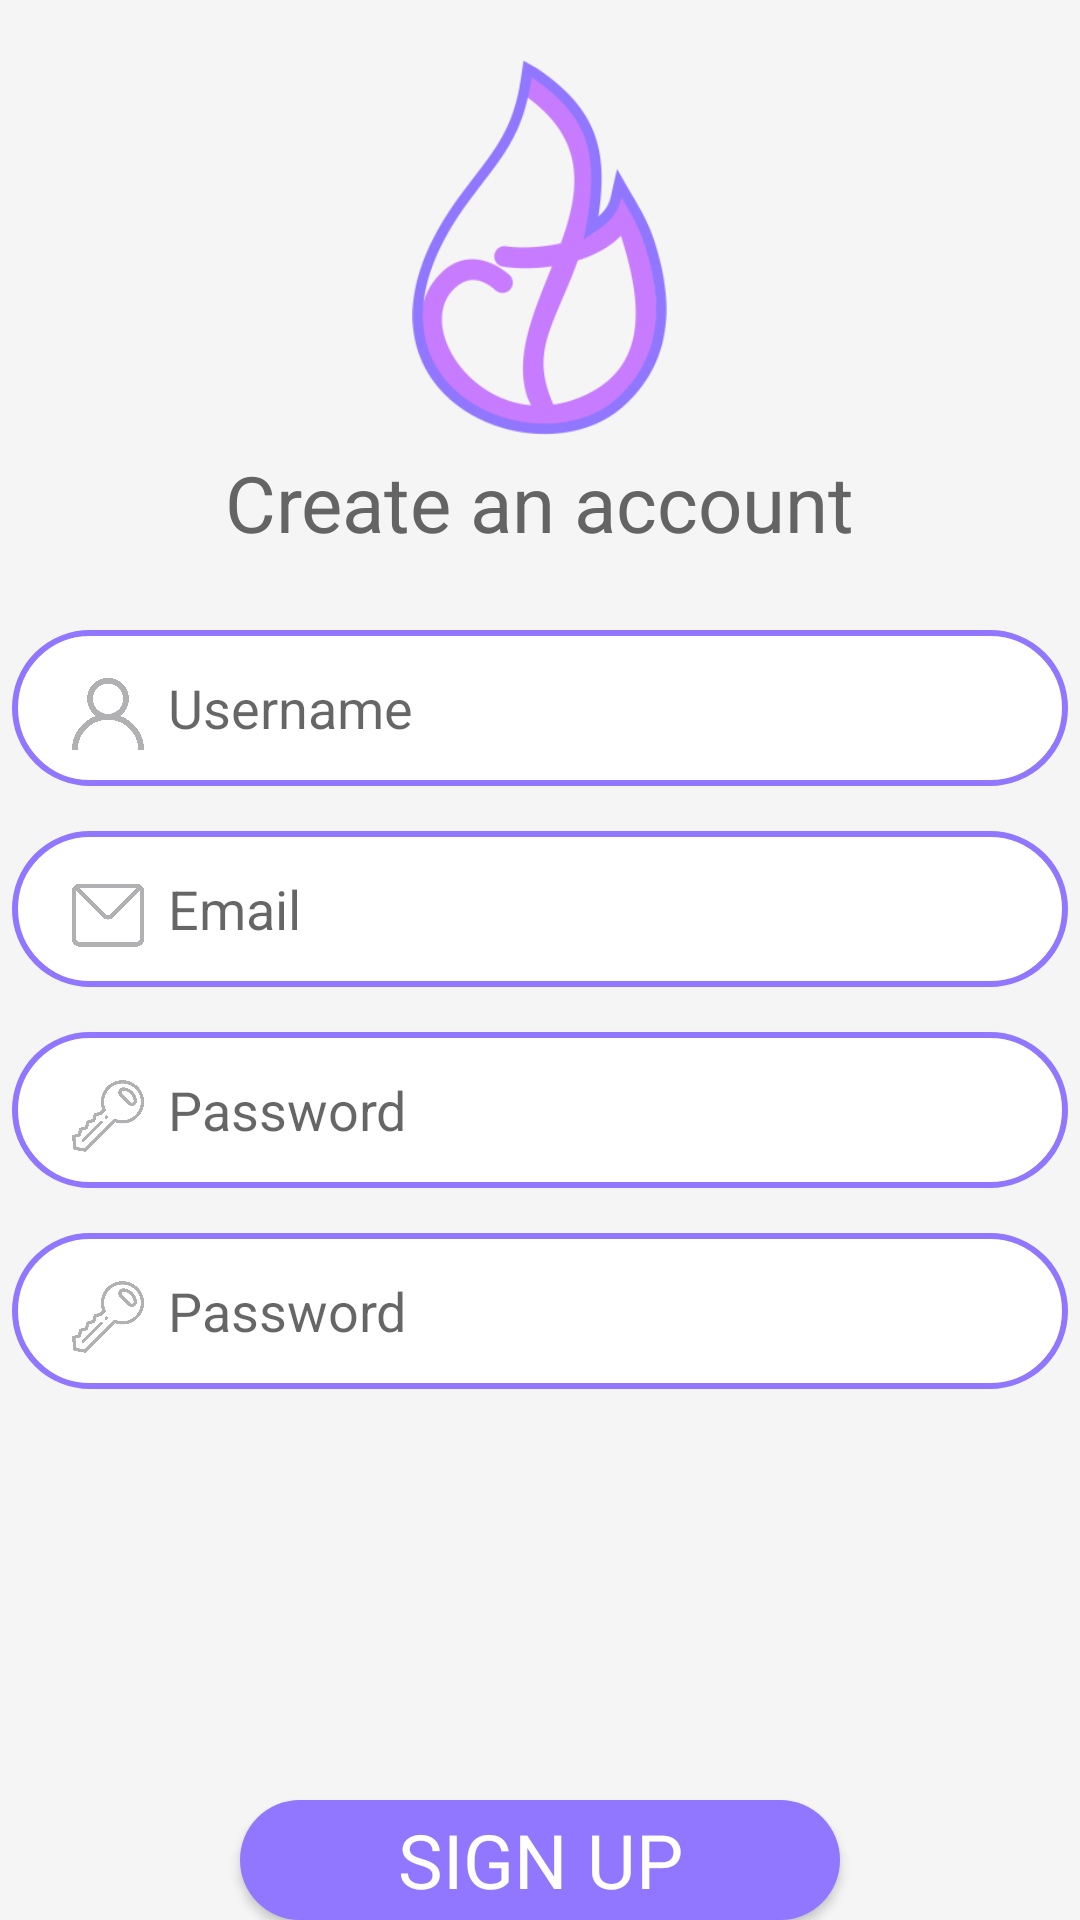

Screen size 1080×1920. Icon name, then its box in pixels as box=[x1, y1, x2, y2]:
key: box=[72, 1080, 144, 1152], box=[72, 1281, 144, 1353]
message: box=[72, 884, 144, 947]
